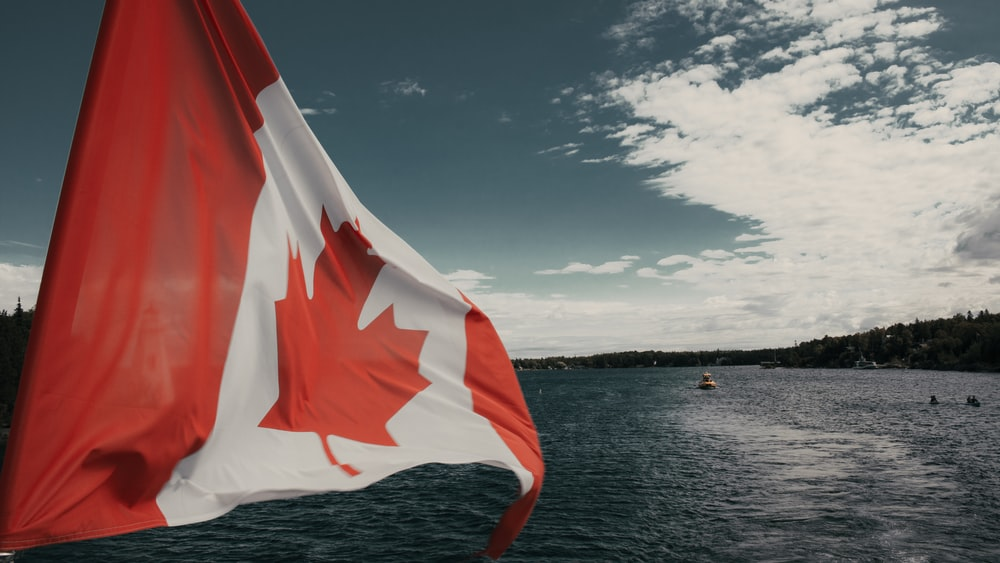Canada flag: (12, 4, 548, 554)
